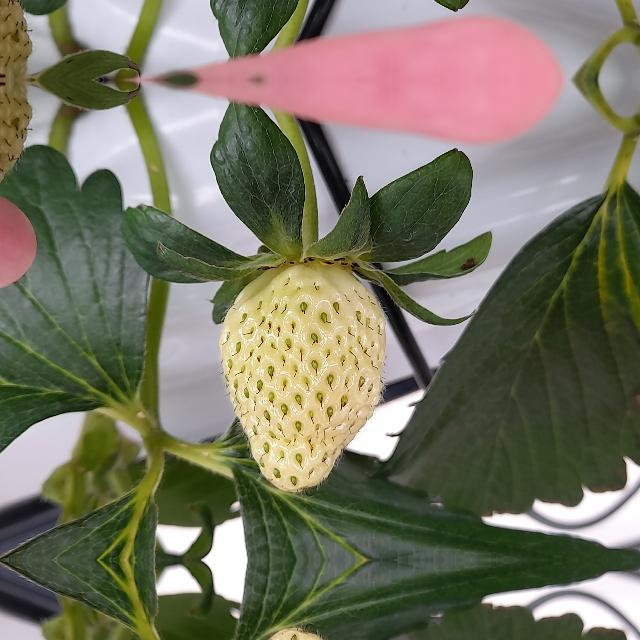Health_25: (218, 264, 386, 492)
